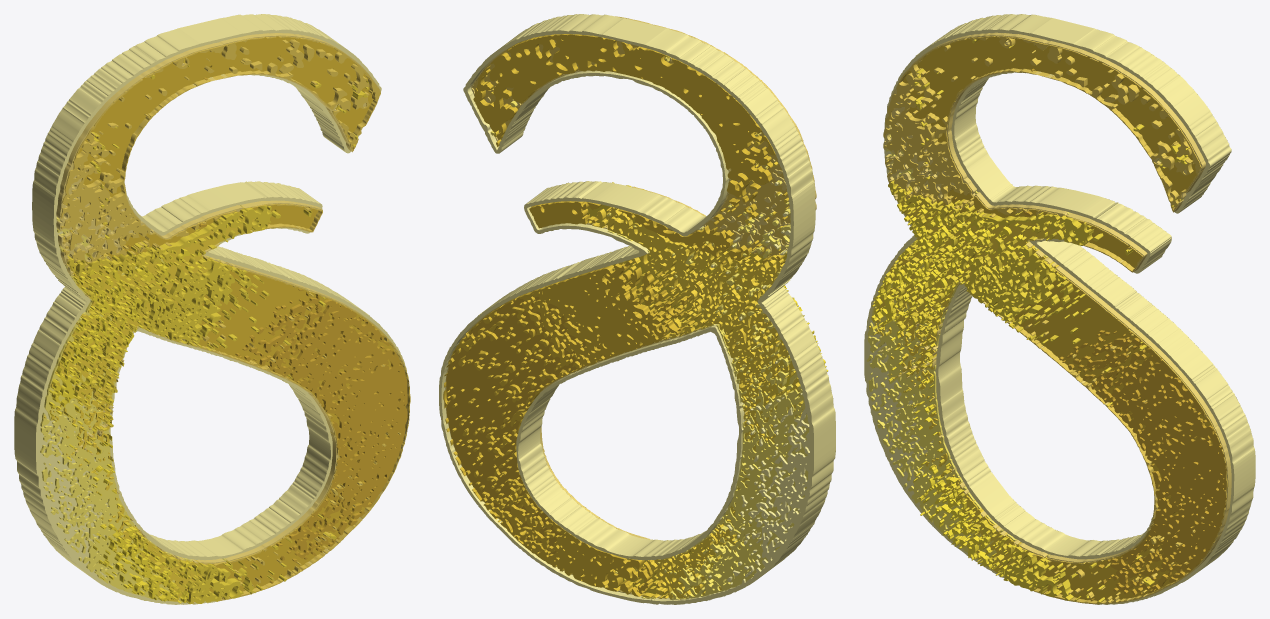
Rendered from 3dsandsDraco.glb.
3 renders of one model, left to right at view 1: azimuth 30°, elevation 25°; view 2: azimuth 150°, elevation 25°; view 3: azimuth 330°, elevation 25°, orthographic.
Visible parts, largest first — view 1: Path (×9); view 2: Path (×9); view 3: Path (×9).
Part boxes in pixels (x1,y1,x2,y2): Path (×9): (14,14,410,604); Path (×9): (439,14,835,604); Path (×9): (864,14,1255,604).
Size of the model in its own units: 0.2985 by 0.4282 by 0.0421.
